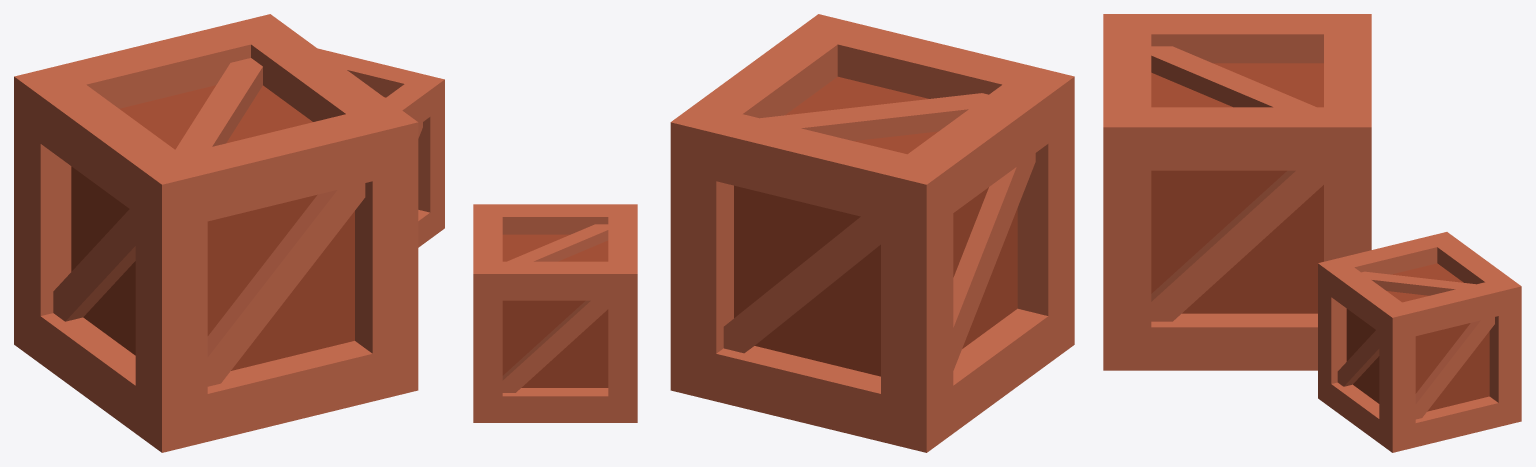
The model's file is boxes.fbx.
3 renders of one model, left to right at view 1: azimuth 30°, elevation 25°; view 2: azimuth 150°, elevation 25°; view 3: azimuth 270°, elevation 25°, orthographic. The views are drawn at different scales.
Visible parts, largest first — view 1: detail_crate (×2); view 2: detail_crate (×2); view 3: detail_crate (×2).
Boxes of the visible parts, <box> form: detail_crate (×2): <box>14,14,444,452</box>; detail_crate (×2): <box>473,14,1074,452</box>; detail_crate (×2): <box>1103,14,1521,452</box>.
Bounding box in the file's own units: 9.32 × 5.4 × 8.42.
